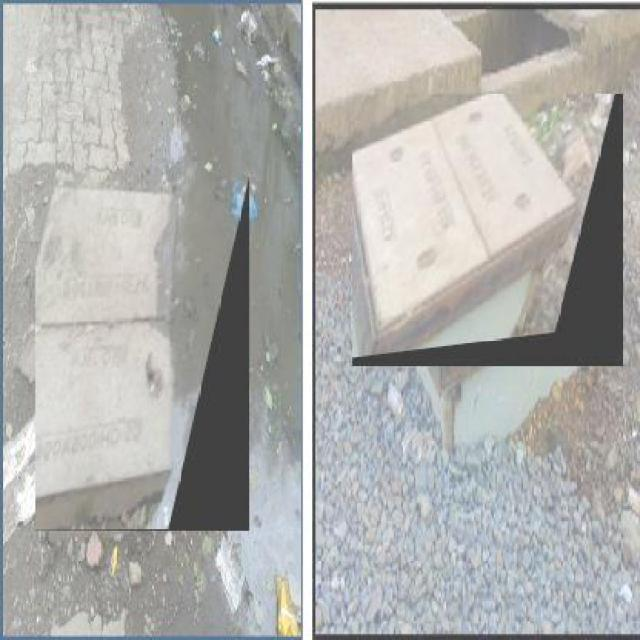Manhole: (36, 177, 250, 531), (354, 94, 625, 366)
